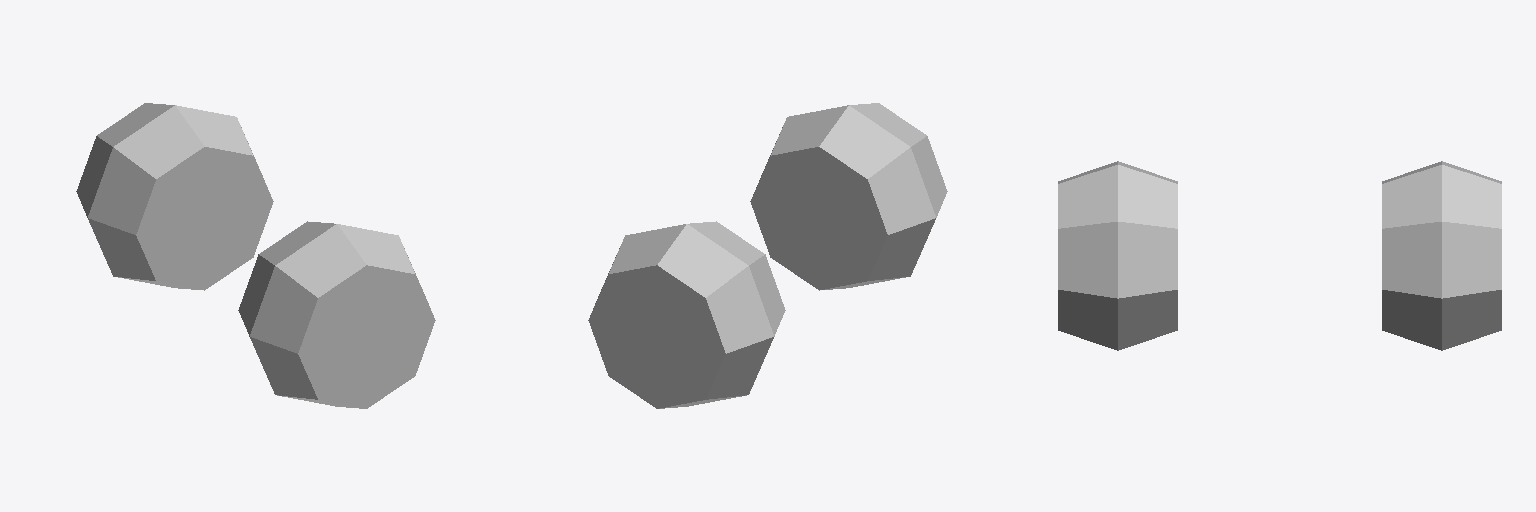
Rendered from pneu_ar.obj.
3 renders of one model, left to right at view 1: azimuth 30°, elevation 25°; view 2: azimuth 150°, elevation 25°; view 3: azimuth 270°, elevation 25°, orthographic.
Visible parts, largest first — view 1: roue_ar_d, roue_ar_g; view 2: roue_ar_d, roue_ar_g; view 3: roue_ar_d, roue_ar_g.
Boxes of the visible parts, x1,y1,x2,y2 form: roue_ar_d: [238, 221, 435, 408]; roue_ar_g: [76, 103, 273, 290]; roue_ar_d: [750, 103, 947, 290]; roue_ar_g: [588, 221, 785, 408]; roue_ar_d: [1058, 161, 1177, 350]; roue_ar_g: [1382, 161, 1501, 350].
Bounding box in the file's own units: 1.01 × 1.01 × 2.21.